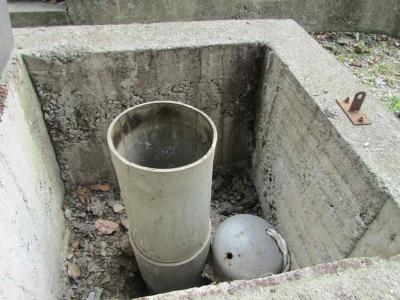bucket: (104, 98, 220, 267)
